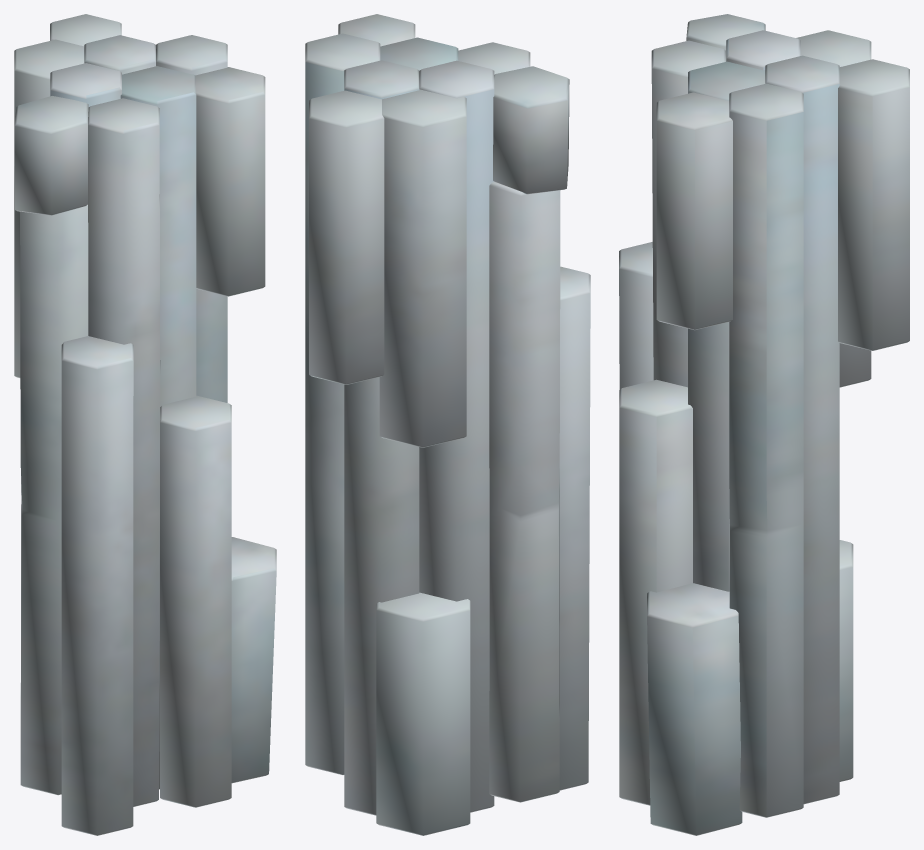
File: P_RockHexic_Spire04.obj
The picture shows the model from 3 angles, left to right: view 1: azimuth 30°, elevation 25°; view 2: azimuth 150°, elevation 25°; view 3: azimuth 270°, elevation 25°; orthographic projection. The views are drawn at different scales.
Size of the model in its own units: 13.25 by 35.87 by 13.12.
